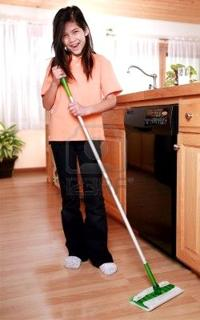person: (42, 6, 124, 276)
